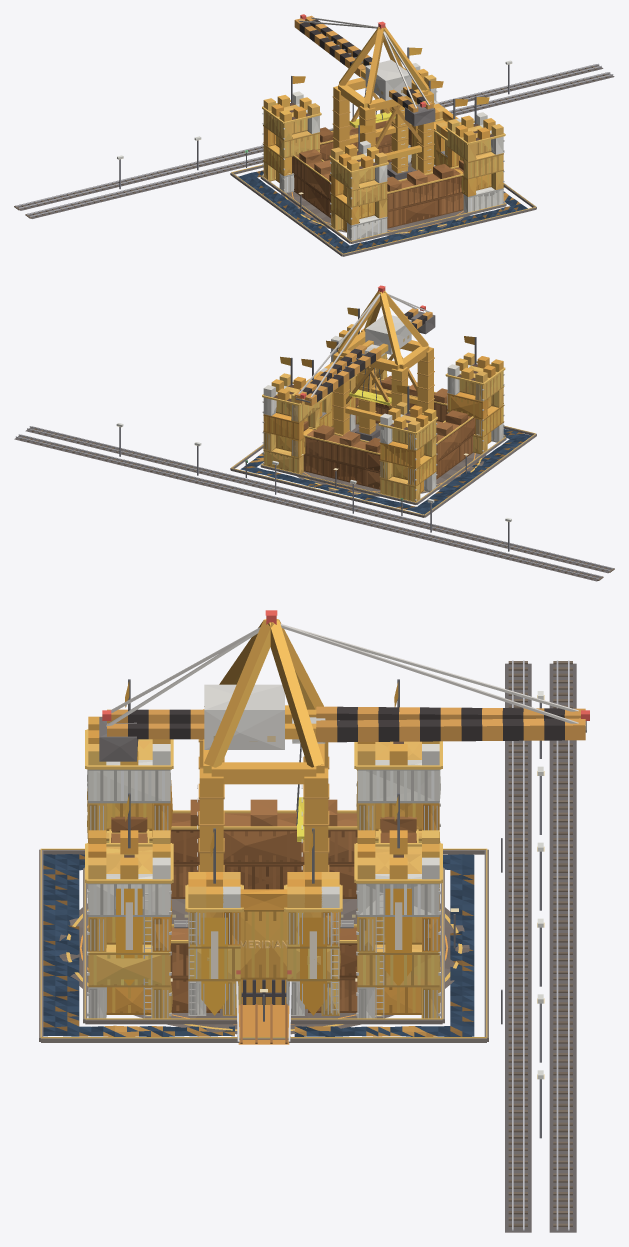
Rendered from meridian_compound.glb.
3 renders of one model, top to bottom at view 1: azimuth 30°, elevation 25°; view 2: azimuth 150°, elevation 25°; view 3: azimuth 270°, elevation 25°, orthographic. The views are drawn at different scales.
Visible parts, largest first — view 1: hq_meridian_lit, hq_meridian_toon, id_ground, hq_meridian_neon; view 2: hq_meridian_lit, id_ground, hq_meridian_toon, hq_meridian_neon; view 3: hq_meridian_lit, id_ground, hq_meridian_toon, hq_meridian_neon.
Boxes of the visible parts, x1,y1,x2,y2 form: hq_meridian_lit: [263, 26, 504, 240]; hq_meridian_toon: [117, 14, 512, 239]; id_ground: [14, 63, 614, 256]; hq_meridian_neon: [119, 21, 511, 194]; hq_meridian_lit: [263, 290, 504, 501]; id_ground: [14, 423, 614, 581]; hq_meridian_toon: [116, 287, 511, 551]; hq_meridian_neon: [118, 285, 509, 521]; hq_meridian_lit: [87, 619, 440, 1018]; id_ground: [39, 660, 576, 1232]; hq_meridian_toon: [87, 615, 589, 1138]; hq_meridian_neon: [85, 610, 544, 1079].
Size of the model in its own units: 180 by 49.51 by 73.7.
